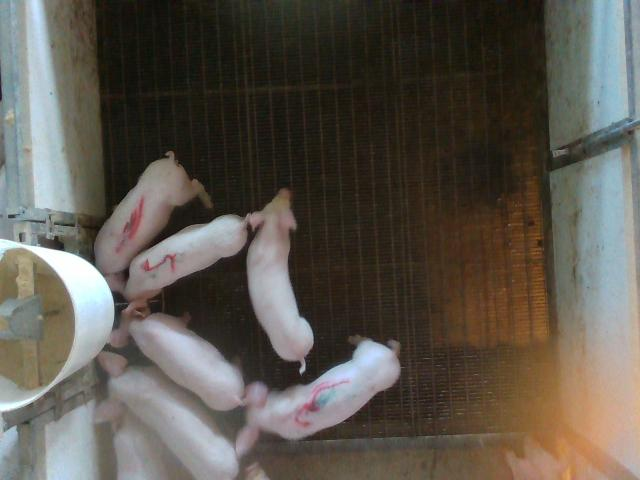pig-1: (95, 151, 211, 274)
pig-3: (236, 336, 400, 457)
pig-5: (105, 215, 248, 308)
